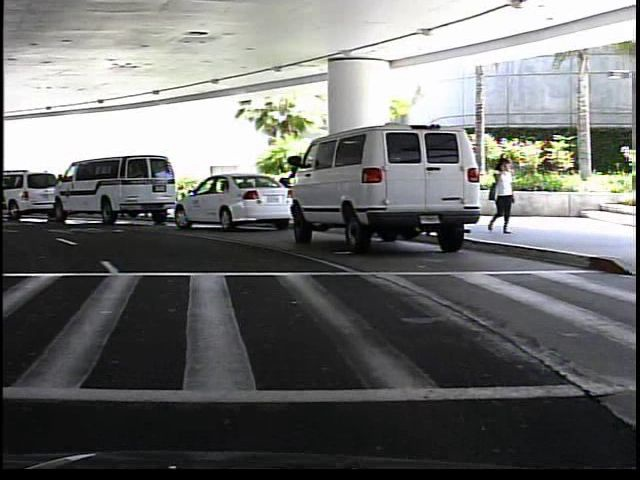person: (484, 151, 516, 237)
